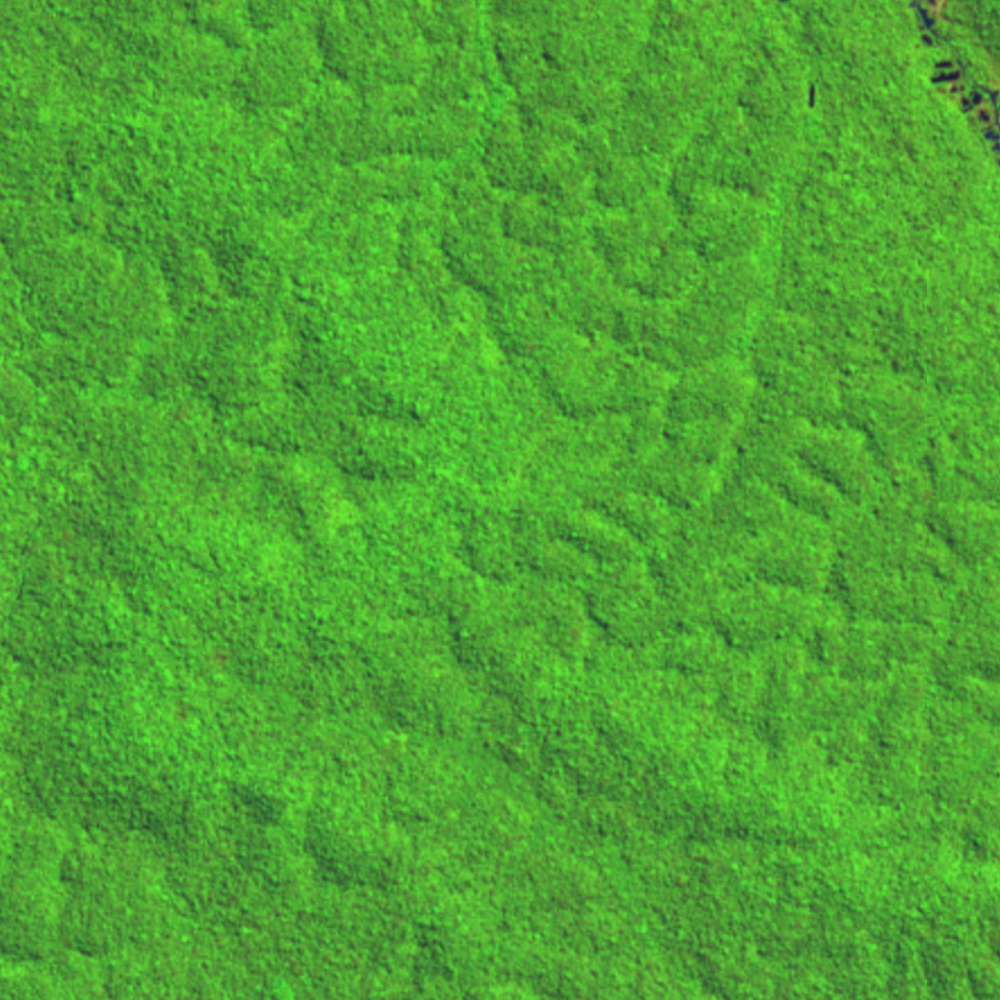illegal: (904, 1, 1000, 177), (803, 77, 820, 113)
